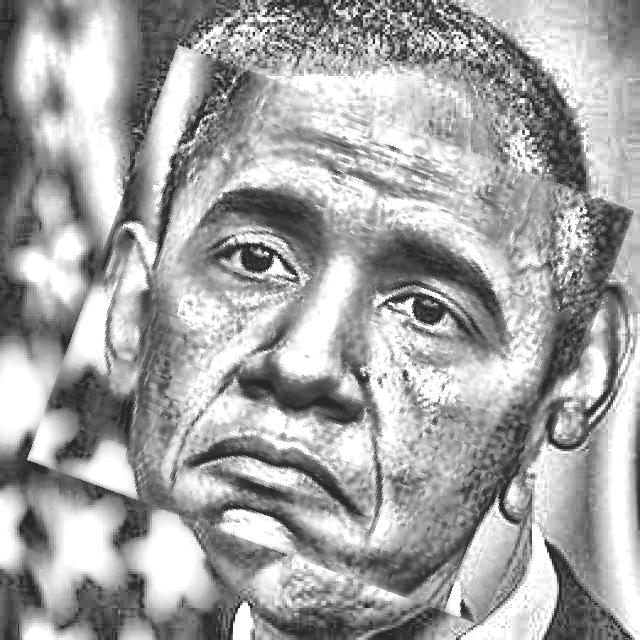sad: (58, 80, 604, 592)
